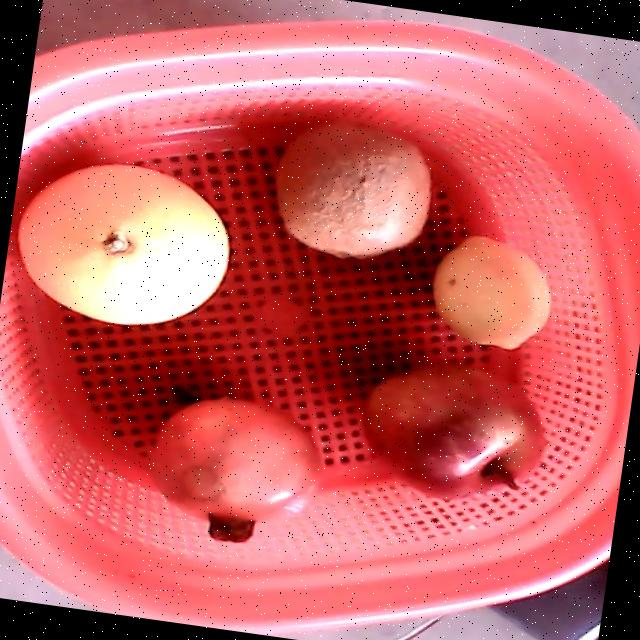apple: (361, 364, 545, 502)
kiwi: (273, 123, 432, 256)
lemon: (431, 236, 549, 350)
orange: (16, 163, 229, 325)
pomegranate: (147, 399, 322, 544)
